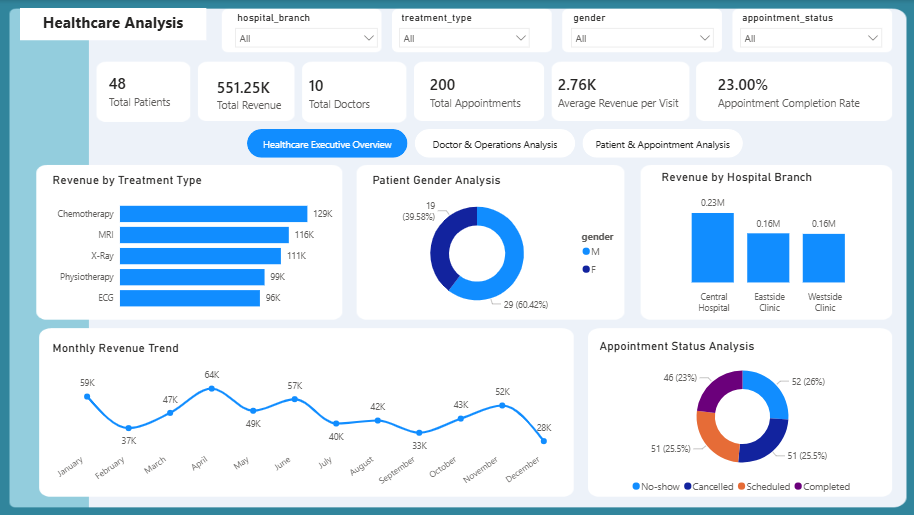

What the dashboard file says about the page in this screenshot:
{"tool":"powerbi","page":{"name":"Healthcare Executive Overview","canvas":[1280,720],"ordinal":0},"visuals":[{"type":"cardVisual","fields":{"Data":["healthcare_analysis_view.Total Revenue"]},"box":[274.9,92.1,154.9,78.1],"z":0},{"type":"cardVisual","fields":{"Data":["healthcare_analysis_view.Total Patients"]},"box":[124.2,83.7,152.1,86.5],"z":1000},{"type":"cardVisual","fields":{"Data":["healthcare_analysis_view.Total Doctors"]},"box":[403.3,85.1,156.3,87.9],"z":2000},{"type":"cardVisual","fields":{"Data":["healthcare_analysis_view.Total Appointments"]},"box":[572.1,80.9,194,94.9],"z":3000},{"type":"cardVisual","fields":{"Data":["healthcare_analysis_view.Completion Rate"]},"box":[974,83.7,283.3,87.9],"z":4000},{"type":"cardVisual","fields":{"Data":["healthcare_analysis_view.Average Billing Amount"]},"box":[750.7,85.1,234.4,86.5],"z":5000},{"type":"clusteredBarChart","title":"Revenue by Treatment Type","fields":{"Category":["healthcare_analysis_view.treatment_type"],"Y":["healthcare_analysis_view.Total Revenue"]},"box":[69.8,241.4,411.6,203.7],"z":6000},{"type":"clusteredColumnChart","title":"Revenue by Hospital Branch","fields":{"Category":["healthcare_analysis_view.hospital_branch"],"Y":["healthcare_analysis_view.Total Revenue"]},"box":[919.5,237.2,300,207.9],"z":7000},{"type":"lineChart","title":"Monthly Revenue Trend","fields":{"Category":["healthcare_analysis_view.appointment_date.Variation.Date Hierarchy.Month"],"Y":["healthcare_analysis_view.Total Revenue"]},"box":[69.8,475.8,718.6,221.9],"z":8000},{"type":"donutChart","title":"Appointment Status Analysis","fields":{"Category":["healthcare_analysis_view.appointment_status"],"Y":["healthcare_analysis_view.Total Appointments"]},"box":[833,473,408.8,224.7],"z":9000},{"type":"donutChart","title":"Patient Gender Analysis","fields":{"Category":["healthcare_analysis_view.gender"],"Y":["healthcare_analysis_view.Total Patients"]},"box":[516.3,241.4,365.6,203.7],"z":10000},{"type":"slicer","fields":{"Values":["healthcare_analysis_view.hospital_branch"]},"box":[319.5,11.2,219.1,68.4],"z":11000},{"type":"slicer","fields":{"Values":["healthcare_analysis_view.treatment_type"]},"box":[548.4,11.2,202.3,68.4],"z":12000},{"type":"slicer","fields":{"Values":["healthcare_analysis_view.gender"]},"box":[788.4,11.2,219.1,68.4],"z":13000},{"type":"slicer","fields":{"Values":["healthcare_analysis_view.appointment_status"]},"box":[1024.2,11.2,217.7,68.4],"z":14000},{"type":"pageNavigator","box":[346,180,694.9,40.5],"z":15000},{"type":"textbox","box":[29.3,11.2,259.5,44.7],"z":16000}]}

Visuals, with their boxes in screenshot pixels (x1, y1, x2, y2), scaled from the page's 1280x720 canvas onto the 914x515 screenshot:
cardVisual - healthcare_analysis_view.Total Revenue: x1=196 y1=66 x2=307 y2=122
cardVisual - healthcare_analysis_view.Total Patients: x1=89 y1=60 x2=197 y2=122
cardVisual - healthcare_analysis_view.Total Doctors: x1=288 y1=61 x2=400 y2=124
cardVisual - healthcare_analysis_view.Total Appointments: x1=409 y1=58 x2=547 y2=126
cardVisual - healthcare_analysis_view.Completion Rate: x1=695 y1=60 x2=898 y2=123
cardVisual - healthcare_analysis_view.Average Billing Amount: x1=536 y1=61 x2=703 y2=123
"Revenue by Treatment Type" clusteredBarChart: x1=50 y1=173 x2=344 y2=318
"Revenue by Hospital Branch" clusteredColumnChart: x1=657 y1=170 x2=871 y2=318
"Monthly Revenue Trend" lineChart: x1=50 y1=340 x2=563 y2=499
"Appointment Status Analysis" donutChart: x1=595 y1=338 x2=887 y2=499
"Patient Gender Analysis" donutChart: x1=369 y1=173 x2=630 y2=318
slicer - healthcare_analysis_view.hospital_branch: x1=228 y1=8 x2=385 y2=57
slicer - healthcare_analysis_view.treatment_type: x1=392 y1=8 x2=536 y2=57
slicer - healthcare_analysis_view.gender: x1=563 y1=8 x2=719 y2=57
slicer - healthcare_analysis_view.appointment_status: x1=731 y1=8 x2=887 y2=57
pageNavigator: x1=247 y1=129 x2=743 y2=158
textbox: x1=21 y1=8 x2=206 y2=40
